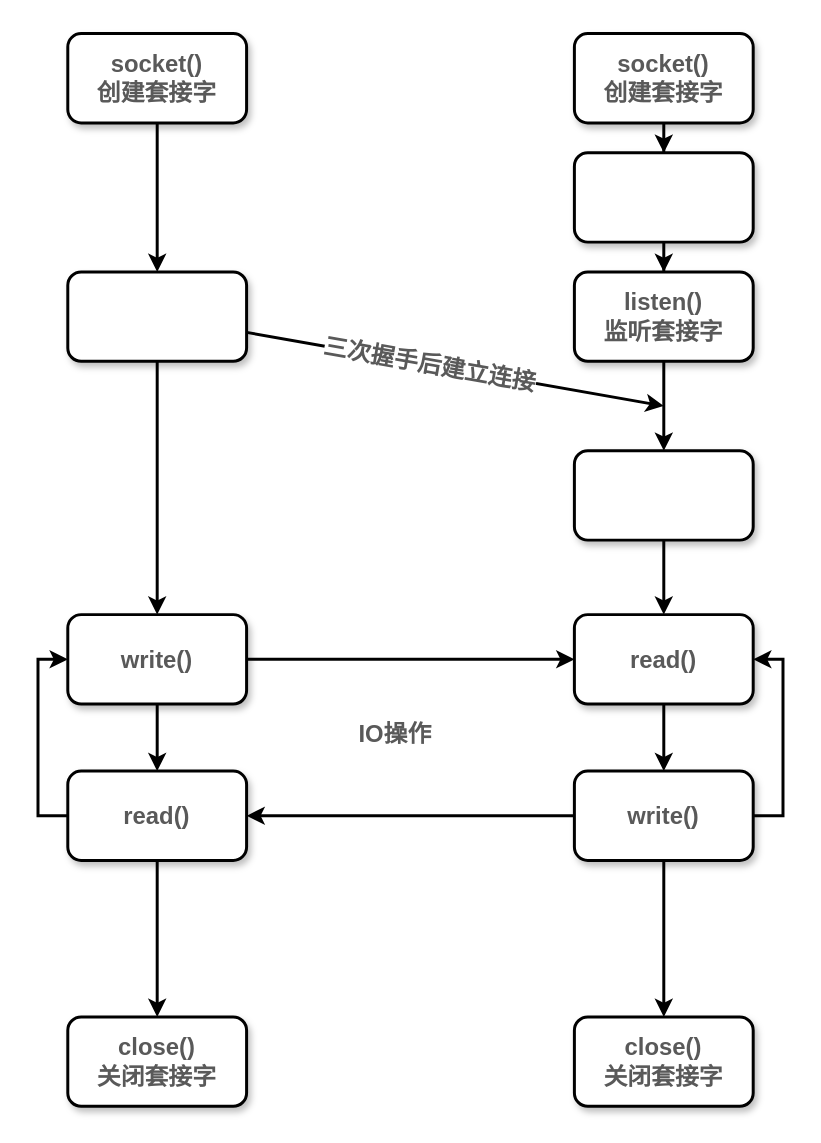
Some shapes in this 821 by 1143 pixel diagram are drawn without their labels. Here are the shapes that lost their labels. From the top down, the centre of each, then its label:
At (664,199): "bind() 绑定套接字".
At (158,318): "connect() 连接套接字".
At (664,497): "accept() 连接套接字".
